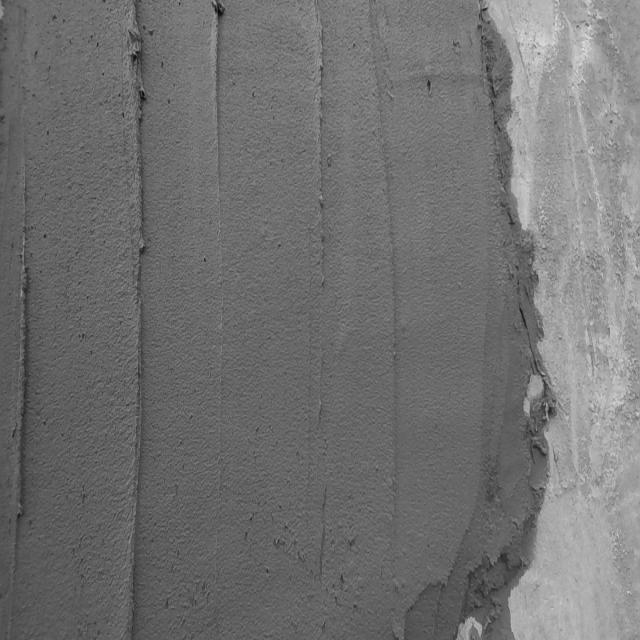trowels marks: (122, 8, 146, 625), (12, 186, 31, 550), (310, 9, 332, 304), (207, 3, 227, 191)
